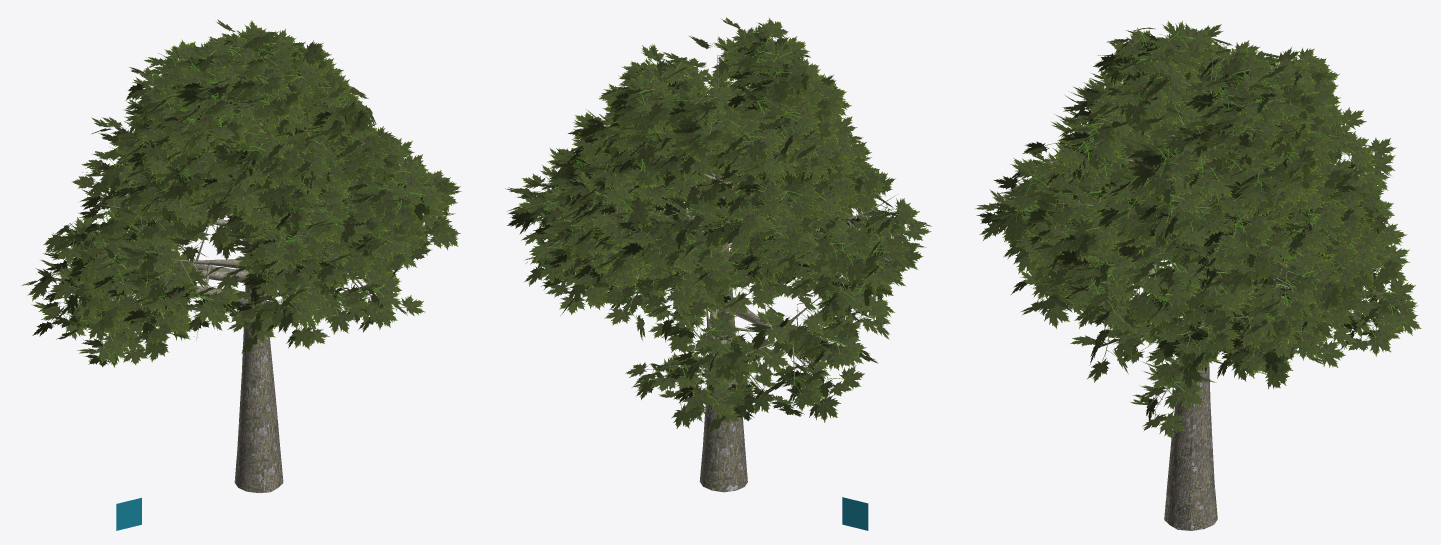
The model's file is nature.obj.
The picture shows the model from 3 angles, left to right: view 1: azimuth 30°, elevation 25°; view 2: azimuth 150°, elevation 25°; view 3: azimuth 270°, elevation 25°; orthographic projection. The views are drawn at different scales.
Parts seen in each view (by area): view 1: tree1, grass; view 2: tree1, grass; view 3: tree1.
Part boxes in pixels (x1,y1,x2,y2): tree1: (22, 19, 461, 493); grass: (116, 497, 141, 530); tree1: (505, 17, 931, 492); grass: (842, 497, 868, 530); tree1: (975, 21, 1421, 530).
Size of the model in its own units: 15.68 by 16.88 by 14.07.
3 materials, 2 textured.
